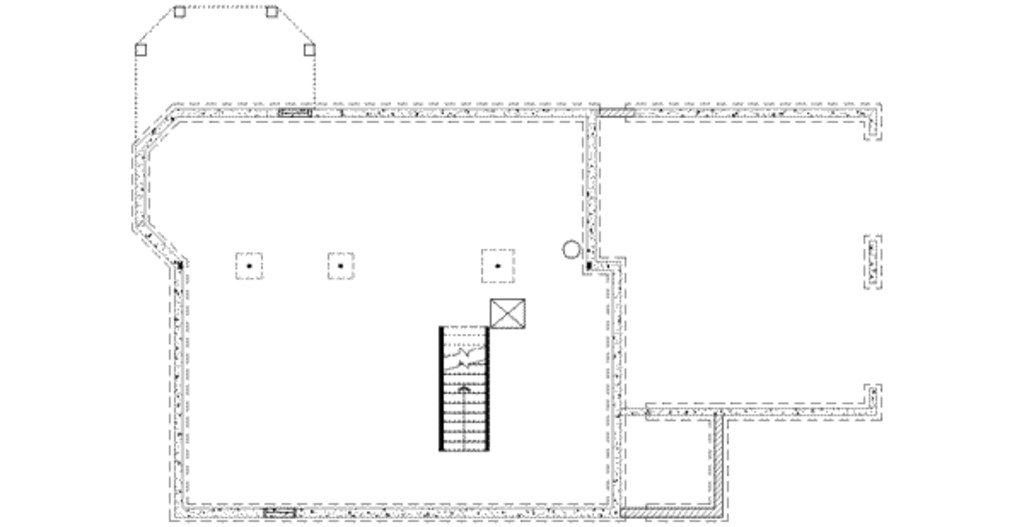stairs: (436, 323, 489, 457)
